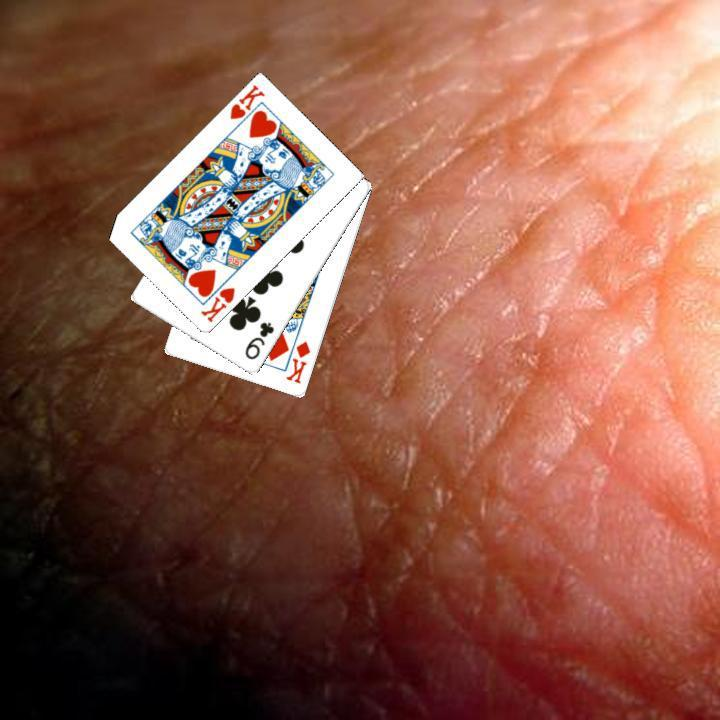9: (240, 318, 276, 362)
K: (196, 283, 237, 325), (225, 81, 267, 122), (282, 337, 313, 386)
